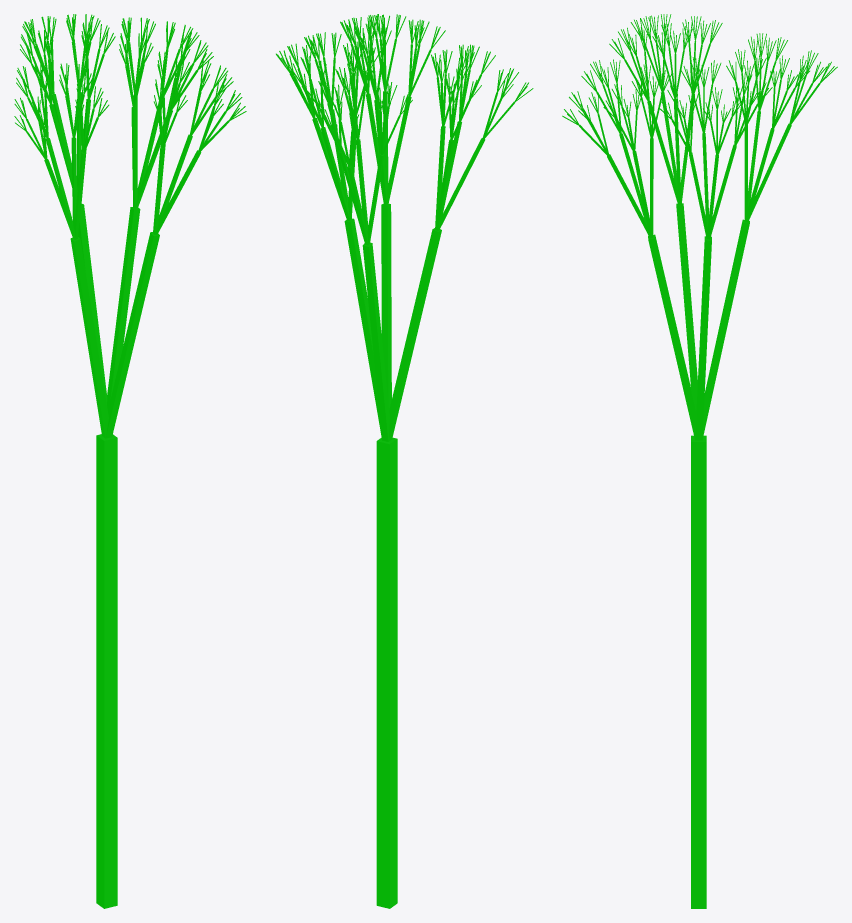
Rendered from tree.glb.
The picture shows the model from 3 angles, left to right: view 1: azimuth 30°, elevation 25°; view 2: azimuth 150°, elevation 25°; view 3: azimuth 270°, elevation 25°; orthographic projection.
Size of the model in its own units: 0.0975 by 0.367 by 0.107.
